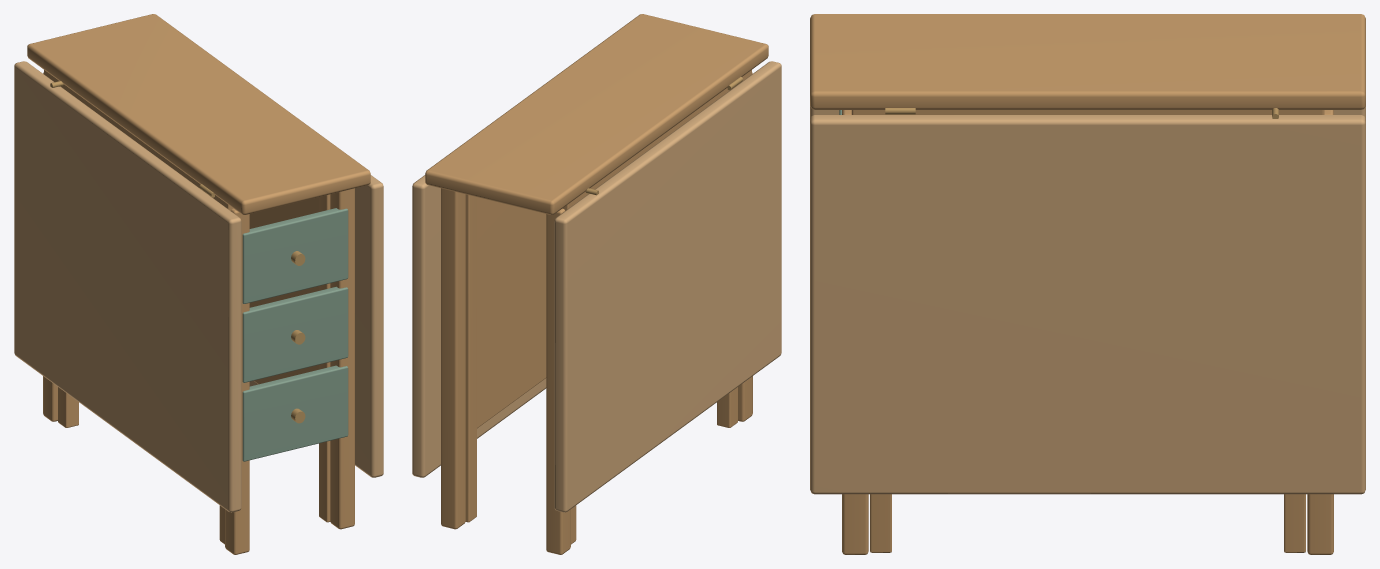
File: gateleg-table-closed.glb
3 renders of one model, left to right at view 1: azimuth 30°, elevation 25°; view 2: azimuth 150°, elevation 25°; view 3: azimuth 270°, elevation 25°, orthographic. The views are drawn at different scales.
Parts seen in each view (by area): view 1: gateleg-table-closed authored assembly; view 2: gateleg-table-closed authored assembly; view 3: gateleg-table-closed authored assembly.
Boxes of the visible parts, <box> form: gateleg-table-closed authored assembly: <box>14,14,383,554</box>; gateleg-table-closed authored assembly: <box>412,14,781,554</box>; gateleg-table-closed authored assembly: <box>810,14,1365,554</box>.
Bounding box in the file's own units: 0.33 × 0.74 × 0.8.
